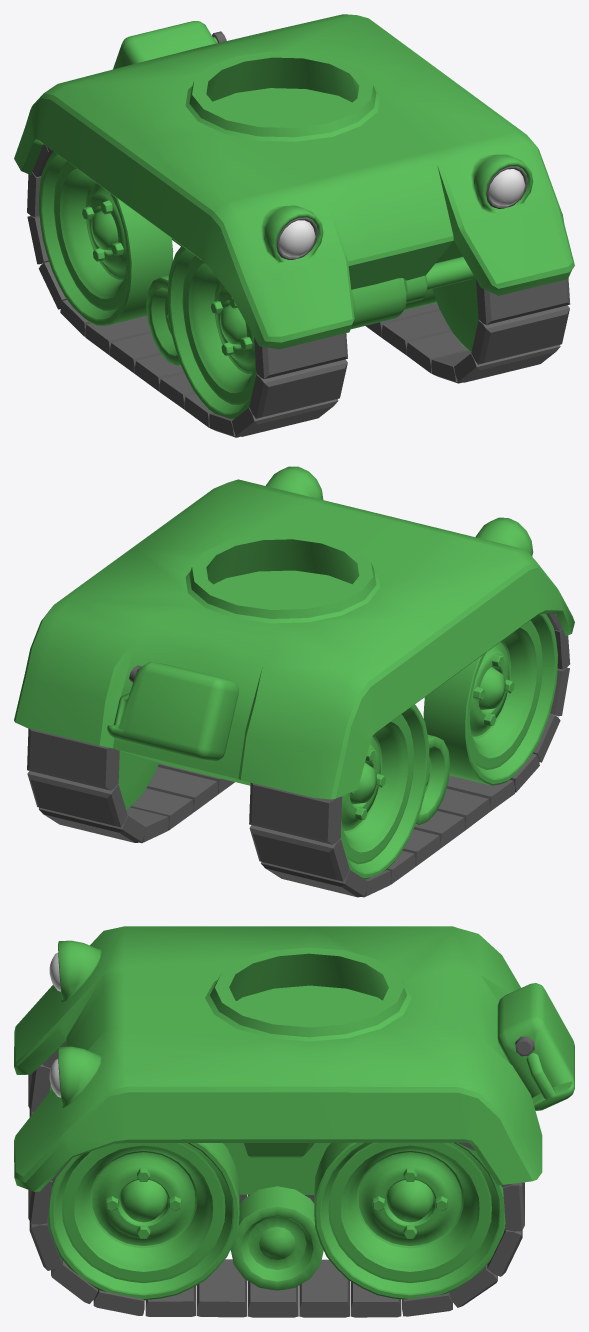
The model's file is TankBase.fbx.
3 views of the same model, one above another, from view 1: azimuth 30°, elevation 25°; view 2: azimuth 150°, elevation 25°; view 3: azimuth 270°, elevation 25° (orthographic). The views are drawn at different scales.
Visible parts, largest first — view 1: TankChassis, TankTracksRight, TankTracksLeft; view 2: TankChassis, TankTracksRight, TankTracksLeft; view 3: TankChassis, TankTracksLeft, TankTracksRight.
Part boxes in pixels (bbox=[...]): TankChassis: bbox=[14, 14, 574, 365]; TankTracksRight: bbox=[27, 144, 347, 437]; TankTracksLeft: bbox=[365, 241, 570, 383]; TankChassis: bbox=[14, 466, 574, 825]; TankTracksRight: bbox=[249, 613, 570, 897]; TankTracksLeft: bbox=[27, 728, 234, 843]; TankChassis: bbox=[14, 926, 574, 1290]; TankTracksLeft: bbox=[28, 1142, 524, 1317]; TankTracksRight: bbox=[28, 1043, 314, 1204].
Size of the model in its own units: 128 by 88.9 by 177.
